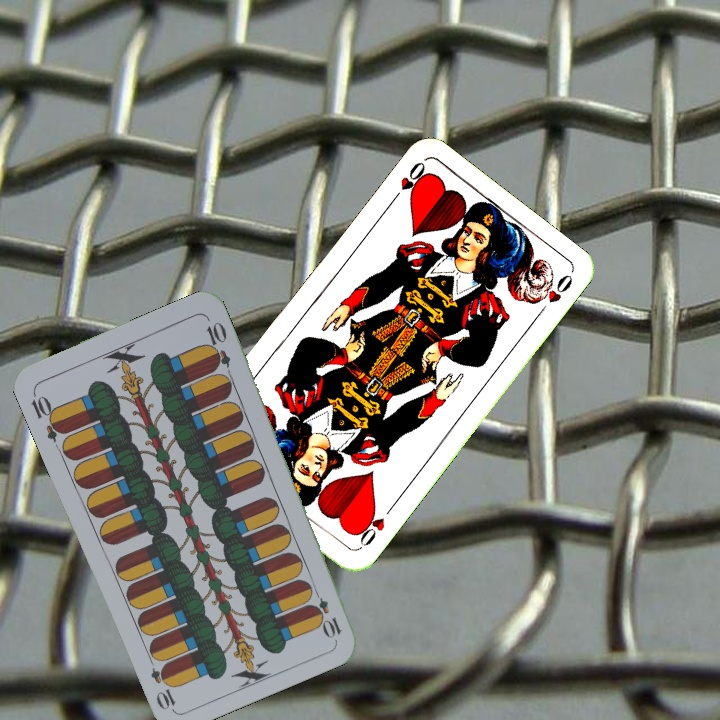E10: (27, 388, 68, 444), (307, 584, 344, 641)
HO: (351, 500, 397, 551), (385, 157, 428, 208)
